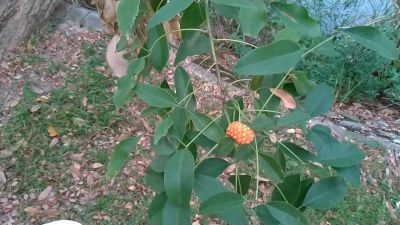eggs: (224, 117, 252, 146)
